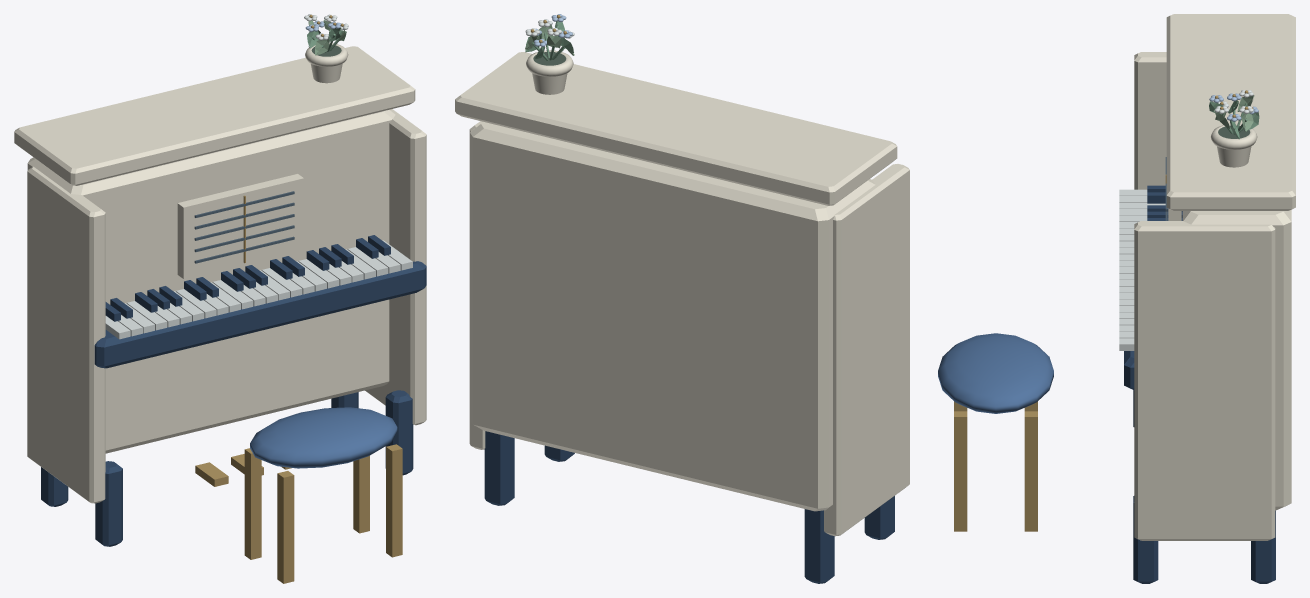
File: v18_special_upright_piano.glb
The picture shows the model from 3 angles, left to right: view 1: azimuth 30°, elevation 25°; view 2: azimuth 150°, elevation 25°; view 3: azimuth 270°, elevation 25°; orthographic projection. The views are drawn at different scales.
Parts seen in each view (by area): view 1: _MeshInstance3D_5326, _MeshInstance3D_5371, _MeshInstance3D_5369, _MeshInstance3D_5370, _MeshInstance3D_5327, _MeshInstance3D_5372, _MeshInstance3D_5382, _MeshInstance3D_5384, _MeshInstance3D_5323, _MeshInstance3D_5383, _MeshInstance3D_5386, _MeshInstance3D_5325 (+4 smaller); view 2: _MeshInstance3D_5326, _MeshInstance3D_5371, _MeshInstance3D_5369, _MeshInstance3D_5324, _MeshInstance3D_5322, _MeshInstance3D_5323, _MeshInstance3D_5370, _MeshInstance3D_5388, _MeshInstance3D_5387; view 3: _MeshInstance3D_5370, _MeshInstance3D_5371, _MeshInstance3D_5382, _MeshInstance3D_5326, _MeshInstance3D_5369, _MeshInstance3D_5385, _MeshInstance3D_5386, _MeshInstance3D_5325, _MeshInstance3D_5324, _MeshInstance3D_5388, _MeshInstance3D_5387.
Part boxes in pixels (x1,y1,x2,y2): _MeshInstance3D_5326: (27, 110, 395, 453); _MeshInstance3D_5371: (14, 46, 415, 185); _MeshInstance3D_5369: (27, 166, 105, 503); _MeshInstance3D_5370: (365, 109, 426, 425); _MeshInstance3D_5327: (94, 261, 426, 368); _MeshInstance3D_5372: (177, 174, 303, 278); _MeshInstance3D_5382: (250, 407, 397, 468); _MeshInstance3D_5384: (277, 471, 294, 583); _MeshInstance3D_5323: (95, 461, 122, 546); _MeshInstance3D_5383: (244, 448, 261, 559); _MeshInstance3D_5386: (386, 444, 402, 557); _MeshInstance3D_5325: (385, 390, 413, 475); _MeshInstance3D_5326: (470, 122, 875, 511); _MeshInstance3D_5371: (455, 52, 897, 205); _MeshInstance3D_5369: (824, 164, 909, 536); _MeshInstance3D_5324: (484, 431, 514, 505); _MeshInstance3D_5322: (804, 509, 834, 583); _MeshInstance3D_5323: (864, 496, 894, 539); _MeshInstance3D_5370: (469, 121, 485, 449); _MeshInstance3D_5388: (526, 50, 573, 76); _MeshInstance3D_5387: (532, 73, 567, 94); _MeshInstance3D_5370: (1134, 221, 1275, 540); _MeshInstance3D_5371: (1166, 14, 1295, 210); _MeshInstance3D_5382: (938, 333, 1053, 413); _MeshInstance3D_5326: (1182, 209, 1291, 510); _MeshInstance3D_5369: (1134, 52, 1166, 189); _MeshInstance3D_5385: (1024, 411, 1037, 531); _MeshInstance3D_5386: (954, 411, 967, 531); _MeshInstance3D_5325: (1133, 496, 1158, 583); _MeshInstance3D_5324: (1251, 510, 1275, 583); _MeshInstance3D_5388: (1211, 124, 1257, 149); _MeshInstance3D_5387: (1217, 146, 1251, 167).
Size of the model in its own units: 1.25 by 1.5 by 1.04.
